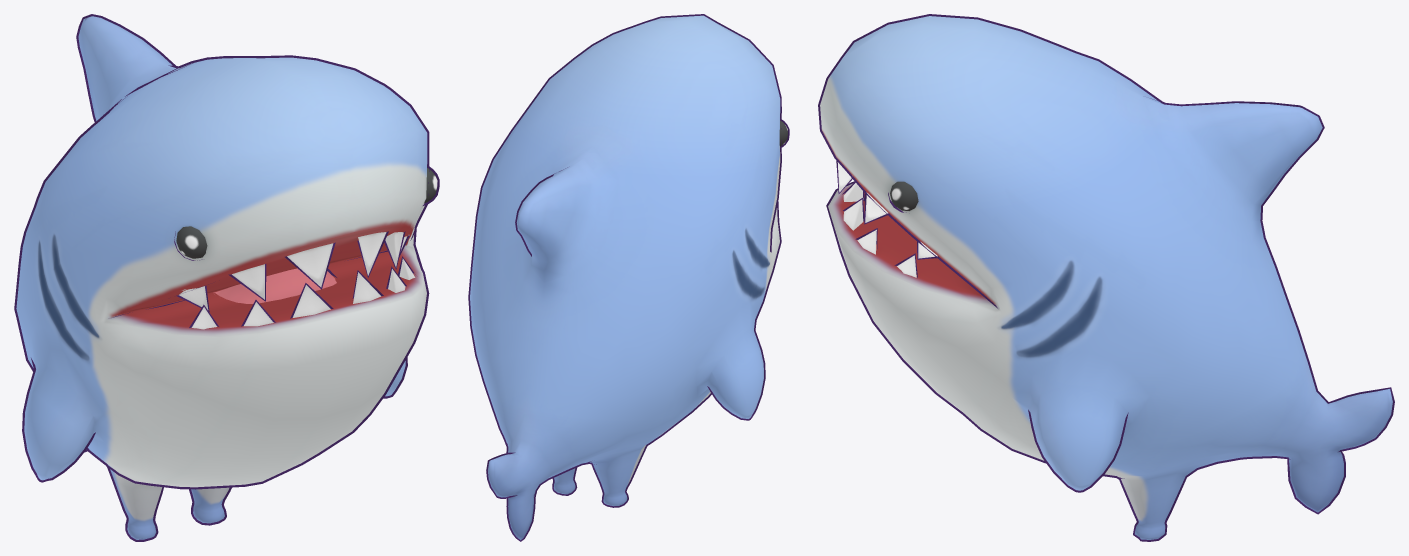
Rendered from shark.glb.
3 renders of one model, left to right at view 1: azimuth 30°, elevation 25°; view 2: azimuth 150°, elevation 25°; view 3: azimuth 270°, elevation 25°, orthographic. The views are drawn at different scales.
Parts seen in each view (by area): view 1: themajor.001_0; view 2: themajor.001_0; view 3: themajor.001_0.
Part boxes in pixels (box(x1,y1,x2,y2)): themajor.001_0: box(14, 14, 439, 541); themajor.001_0: box(468, 14, 789, 541); themajor.001_0: box(818, 14, 1394, 541).
Bounding box in the file's own units: 0.9597 × 1.35 × 1.42.
Materials: 2 (1 with a texture image).
